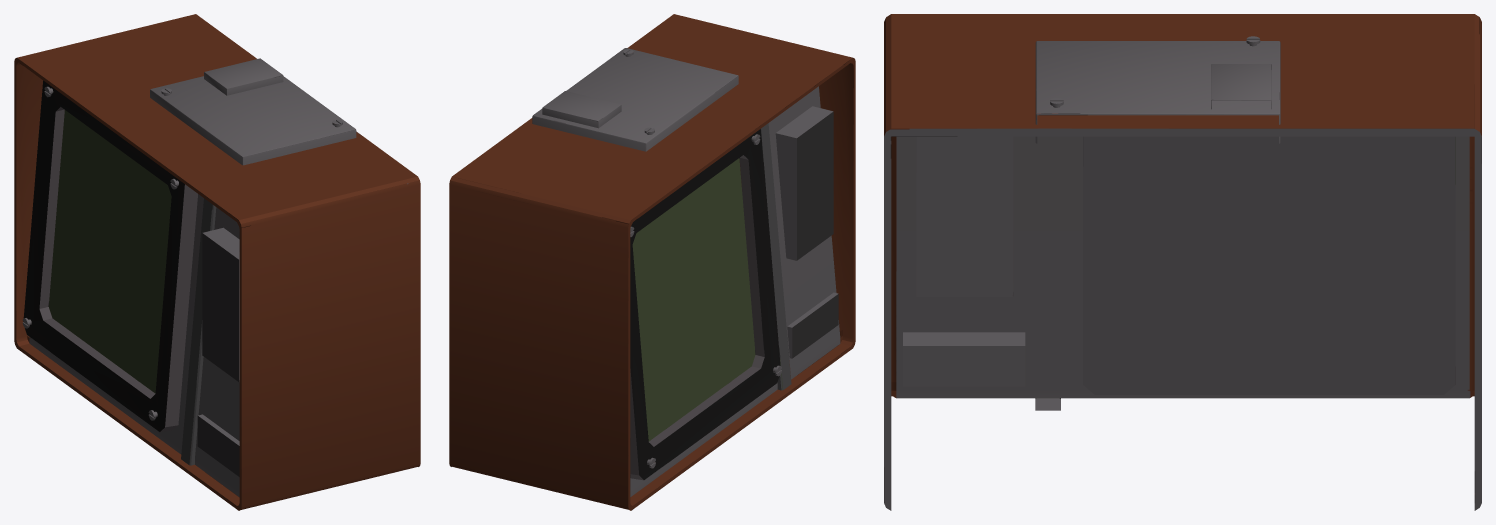
File: RADAR.fbx
3 renders of one model, left to right at view 1: azimuth 30°, elevation 25°; view 2: azimuth 150°, elevation 25°; view 3: azimuth 270°, elevation 25°, orthographic. The views are drawn at different scales.
Parts seen in each view (by area): view 1: Cube; view 2: Cube; view 3: Cube.
Part boxes in pixels (x1,y1,x2,y2): Cube: [14, 14, 420, 510]; Cube: [449, 14, 855, 510]; Cube: [884, 14, 1481, 510].
Bounding box in the file's own units: 91.99 × 145 × 195.
